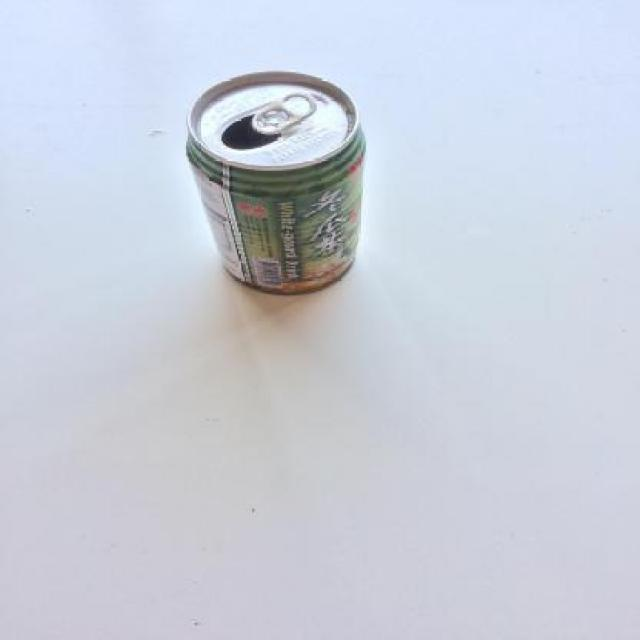Garbage: (186, 71, 367, 296), (252, 92, 317, 135)
